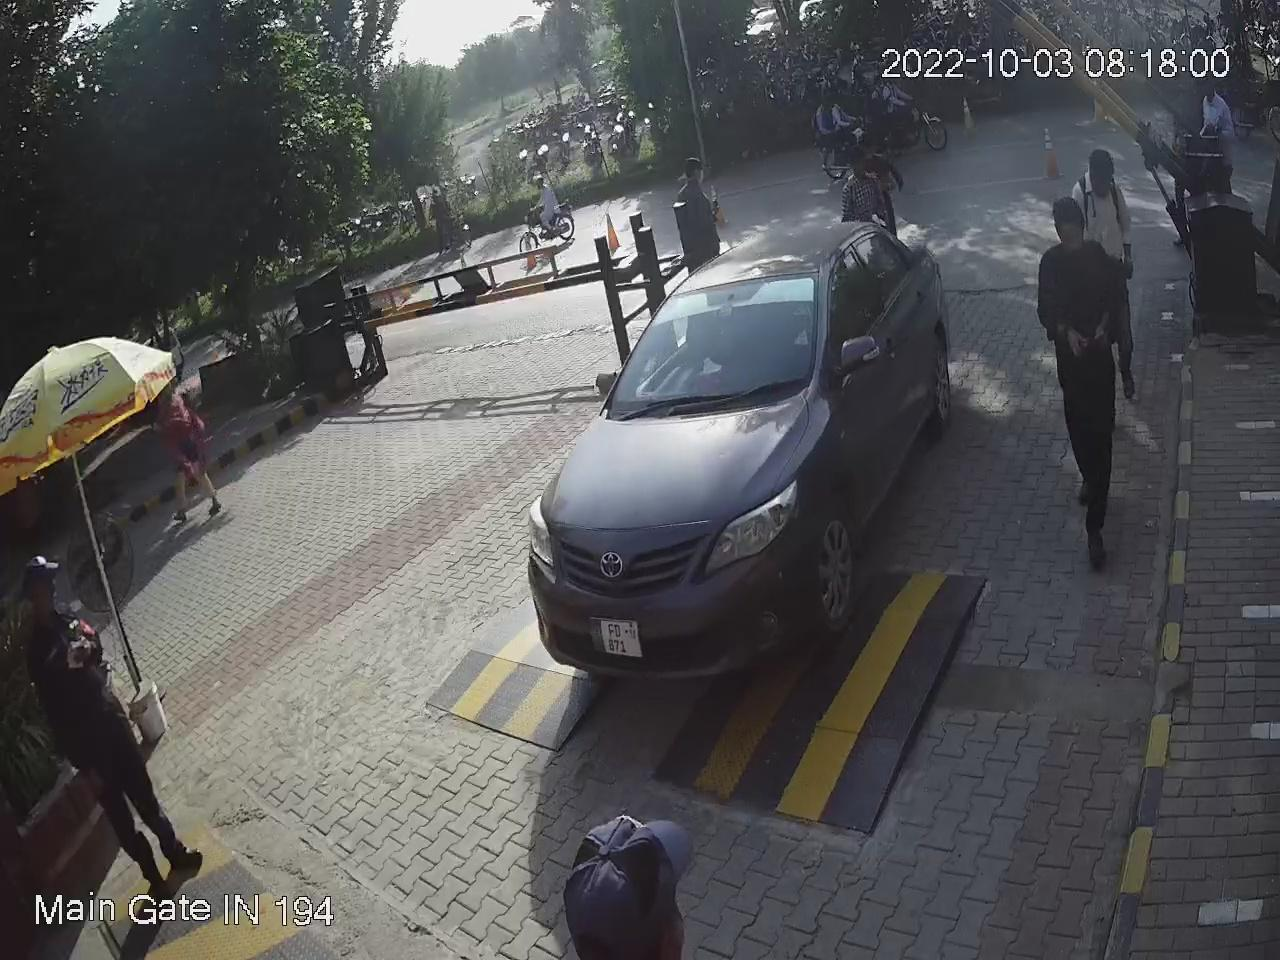windshield: (598, 252, 818, 415)
